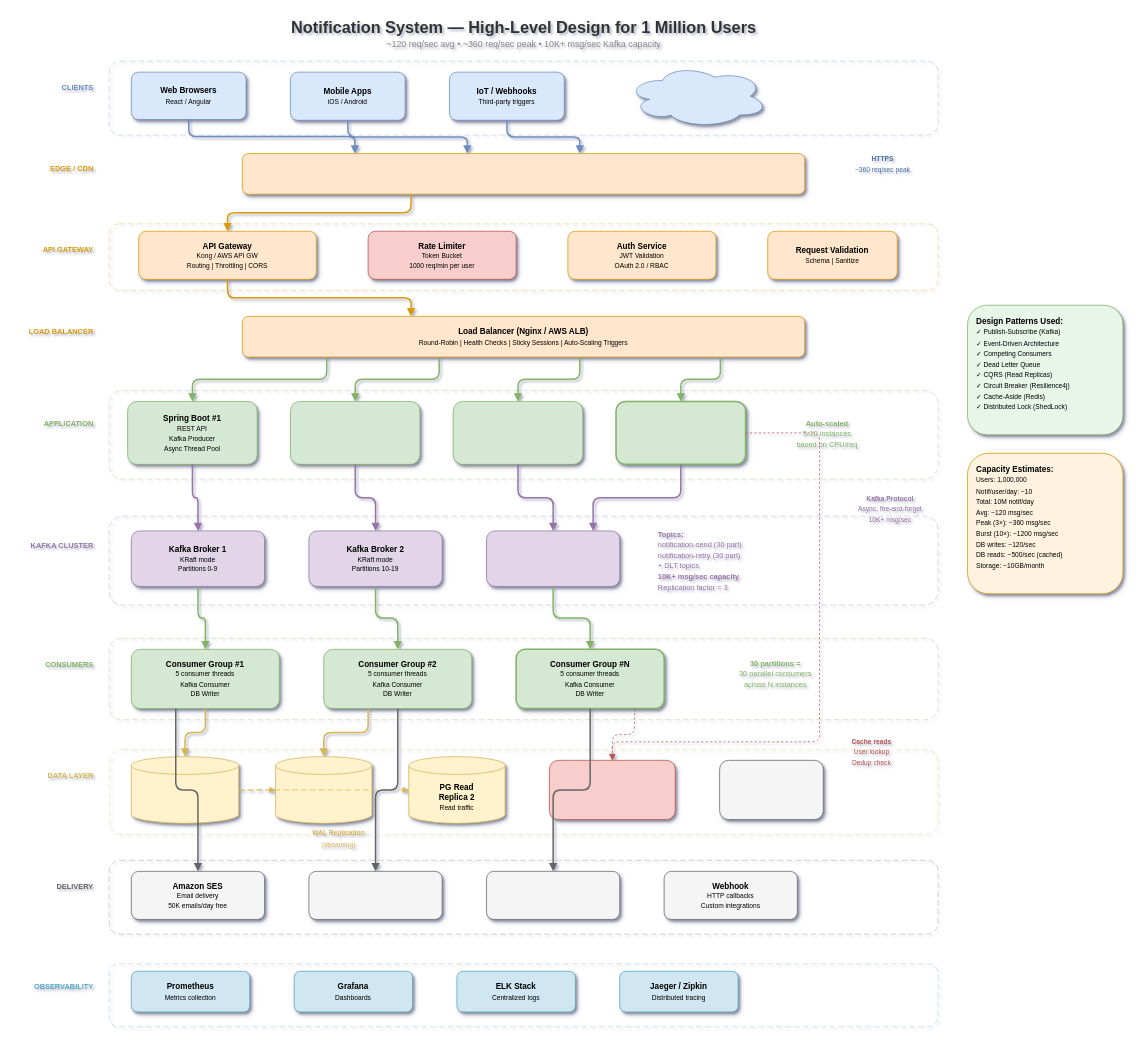
Some shapes in this 1145 by 1044 pixel diagram are drawn without their labels. The shapes that lost their labels are listed below. From the top down, each one's centre as x and y in pixels, then its label:
At (x=697, y=97): "1M+ Users ~120 req/sec avg".
At (x=524, y=174): "CloudFlare CDN DNS | SSL Termination | DDoS Protection | Static Assets Cache".
At (x=355, y=434): "Spring Boot #2 REST API Kafka Producer Async Thread Pool".
At (x=518, y=434): "Spring Boot #3 REST API Kafka Producer Async Thread Pool".
At (x=681, y=433): "Spring Boot #N REST API Kafka Producer Async Thread Pool".
At (x=553, y=559): "Kafka Broker 3 KRaft mode Partitions 20-29".
At (x=185, y=790): "PostgreSQL Primary Write traffic WAL replication".
At (x=324, y=790): "PG Read Replica 1 Read traffic".
At (x=613, y=791): "Redis Cluster User cache | Dedup Rate limit state Session store".
At (x=772, y=791): "ShedLock Distributed scheduling (in PostgreSQL)".
At (x=376, y=896): "Twilio SMS delivery Global reach".
At (x=553, y=896): "Firebase FCM Push notifications iOS & Android".
